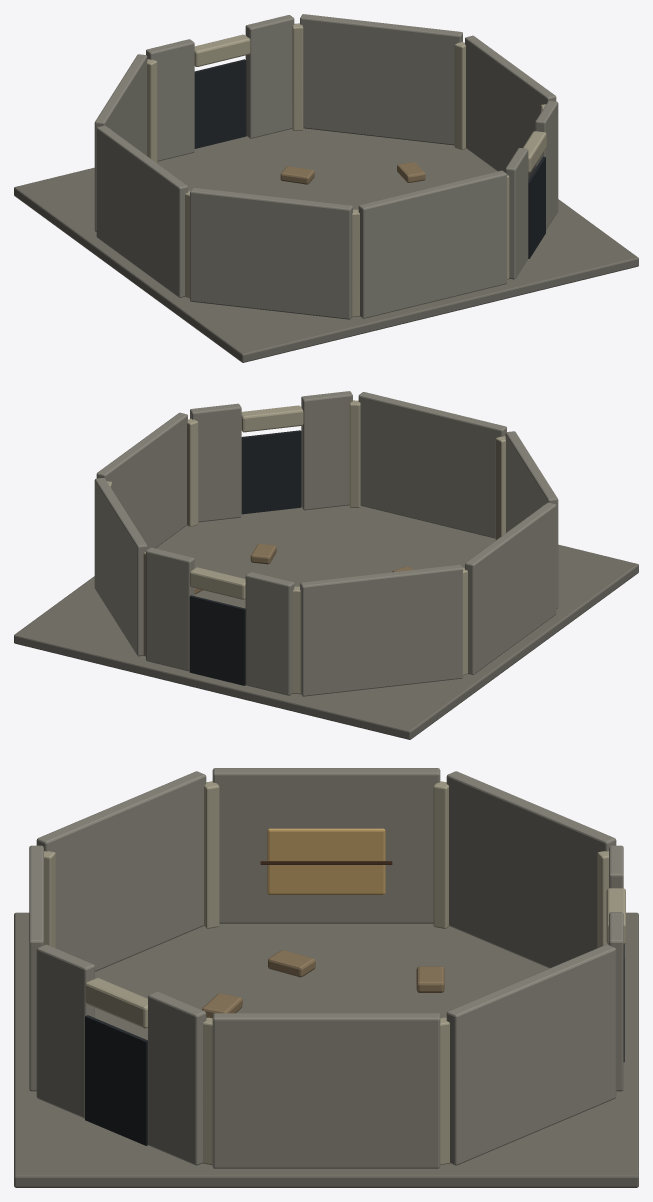
Rendered from discarded_hall_3979.glb.
The picture shows the model from 3 angles, top to bottom: view 1: azimuth 30°, elevation 25°; view 2: azimuth 150°, elevation 25°; view 3: azimuth 270°, elevation 25°; orthographic projection. The views are drawn at different scales.
Parts seen in each view (by area): view 1: Room floor, SW solid wall, NE solid wall, S solid wall, W solid wall, E solid wall, N doorway right, N doorway left, N passage shadow, NW solid wall, SE doorway right, SE doorway left (+9 smaller); view 2: Room floor, NW solid wall, S solid wall, W solid wall, E solid wall, NE solid wall, SE doorway right, N doorway left, N doorway right, SE doorway left, SE passage shadow, N passage shadow (+8 smaller); view 3: Room floor, E solid wall, NE solid wall, W solid wall, SW solid wall, NW solid wall, SE doorway left, SE doorway right, West trash sign, SE passage shadow, S solid wall, Corner column.005 (+12 smaller).
Part boxes in pixels (x1=…): Room floor: x1=14, y1=128, x2=638, y2=362; SW solid wall: x1=190, y1=187, x2=352, y2=319; NE solid wall: x1=300, y1=14, x2=462, y2=145; S solid wall: x1=358, y1=170, x2=506, y2=318; W solid wall: x1=96, y1=125, x2=187, y2=297; E solid wall: x1=465, y1=35, x2=556, y2=179; N doorway right: x1=245, y1=15, x2=294, y2=138; N doorway left: x1=146, y1=39, x2=194, y2=161; N passage shadow: x1=194, y1=59, x2=246, y2=148; NW solid wall: x1=94, y1=54, x2=147, y2=231; SE doorway right: x1=505, y1=148, x2=528, y2=279; SE doorway left: x1=535, y1=101, x2=558, y2=230; Room floor: x1=14, y1=505, x2=638, y2=739; NW solid wall: x1=300, y1=564, x2=462, y2=696; S solid wall: x1=358, y1=392, x2=506, y2=538; W solid wall: x1=465, y1=502, x2=556, y2=674; E solid wall: x1=96, y1=412, x2=187, y2=549; NE solid wall: x1=94, y1=478, x2=147, y2=656; SE doorway right: x1=301, y1=391, x2=352, y2=510; N doorway left: x1=245, y1=572, x2=294, y2=695; N doorway right: x1=146, y1=547, x2=194, y2=671; SE doorway left: x1=190, y1=403, x2=241, y2=522; SE passage shadow: x1=241, y1=430, x2=301, y2=514; N passage shadow: x1=189, y1=595, x2=245, y2=685; Room floor: x1=14, y1=912, x2=638, y2=1187; E solid wall: x1=212, y1=1013, x2=440, y2=1168; NE solid wall: x1=446, y1=944, x2=616, y2=1165; W solid wall: x1=212, y1=768, x2=440, y2=923; SW solid wall: x1=36, y1=771, x2=206, y2=971; NW solid wall: x1=446, y1=771, x2=616, y2=968; SE doorway left: x1=148, y1=991, x2=206, y2=1165; SE doorway right: x1=36, y1=944, x2=94, y2=1118; West trash sign: x1=267, y1=828, x2=385, y2=894; SE passage shadow: x1=85, y1=1015, x2=147, y2=1145; S solid wall: x1=29, y1=845, x2=43, y2=1091; Corner column.005: x1=204, y1=781, x2=219, y2=928.
Bounding box in the file's own units: 18 × 5.2 × 18.
